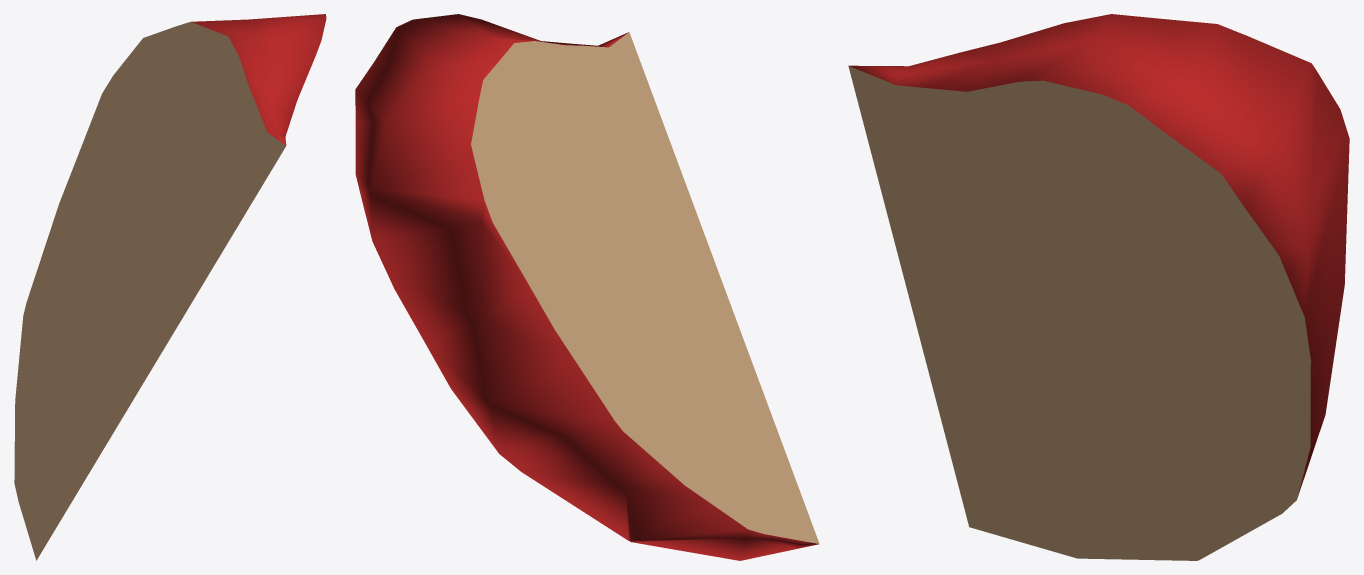
The model's file is hahen2.fbx.
3 renders of one model, left to right at view 1: azimuth 30°, elevation 25°; view 2: azimuth 150°, elevation 25°; view 3: azimuth 270°, elevation 25°, orthographic. The views are drawn at different scales.
Parts seen in each view (by area): view 1: hahen01; view 2: hahen01; view 3: hahen01.
Part boxes in pixels (left/top/right/bottom): hahen01: left=14, top=14, right=326, bottom=560; hahen01: left=355, top=14, right=819, bottom=560; hahen01: left=848, top=14, right=1349, bottom=560.
Size of the model in its own units: 22.28 by 26.63 by 17.31.
Materials: 1 (1 with a texture image).
